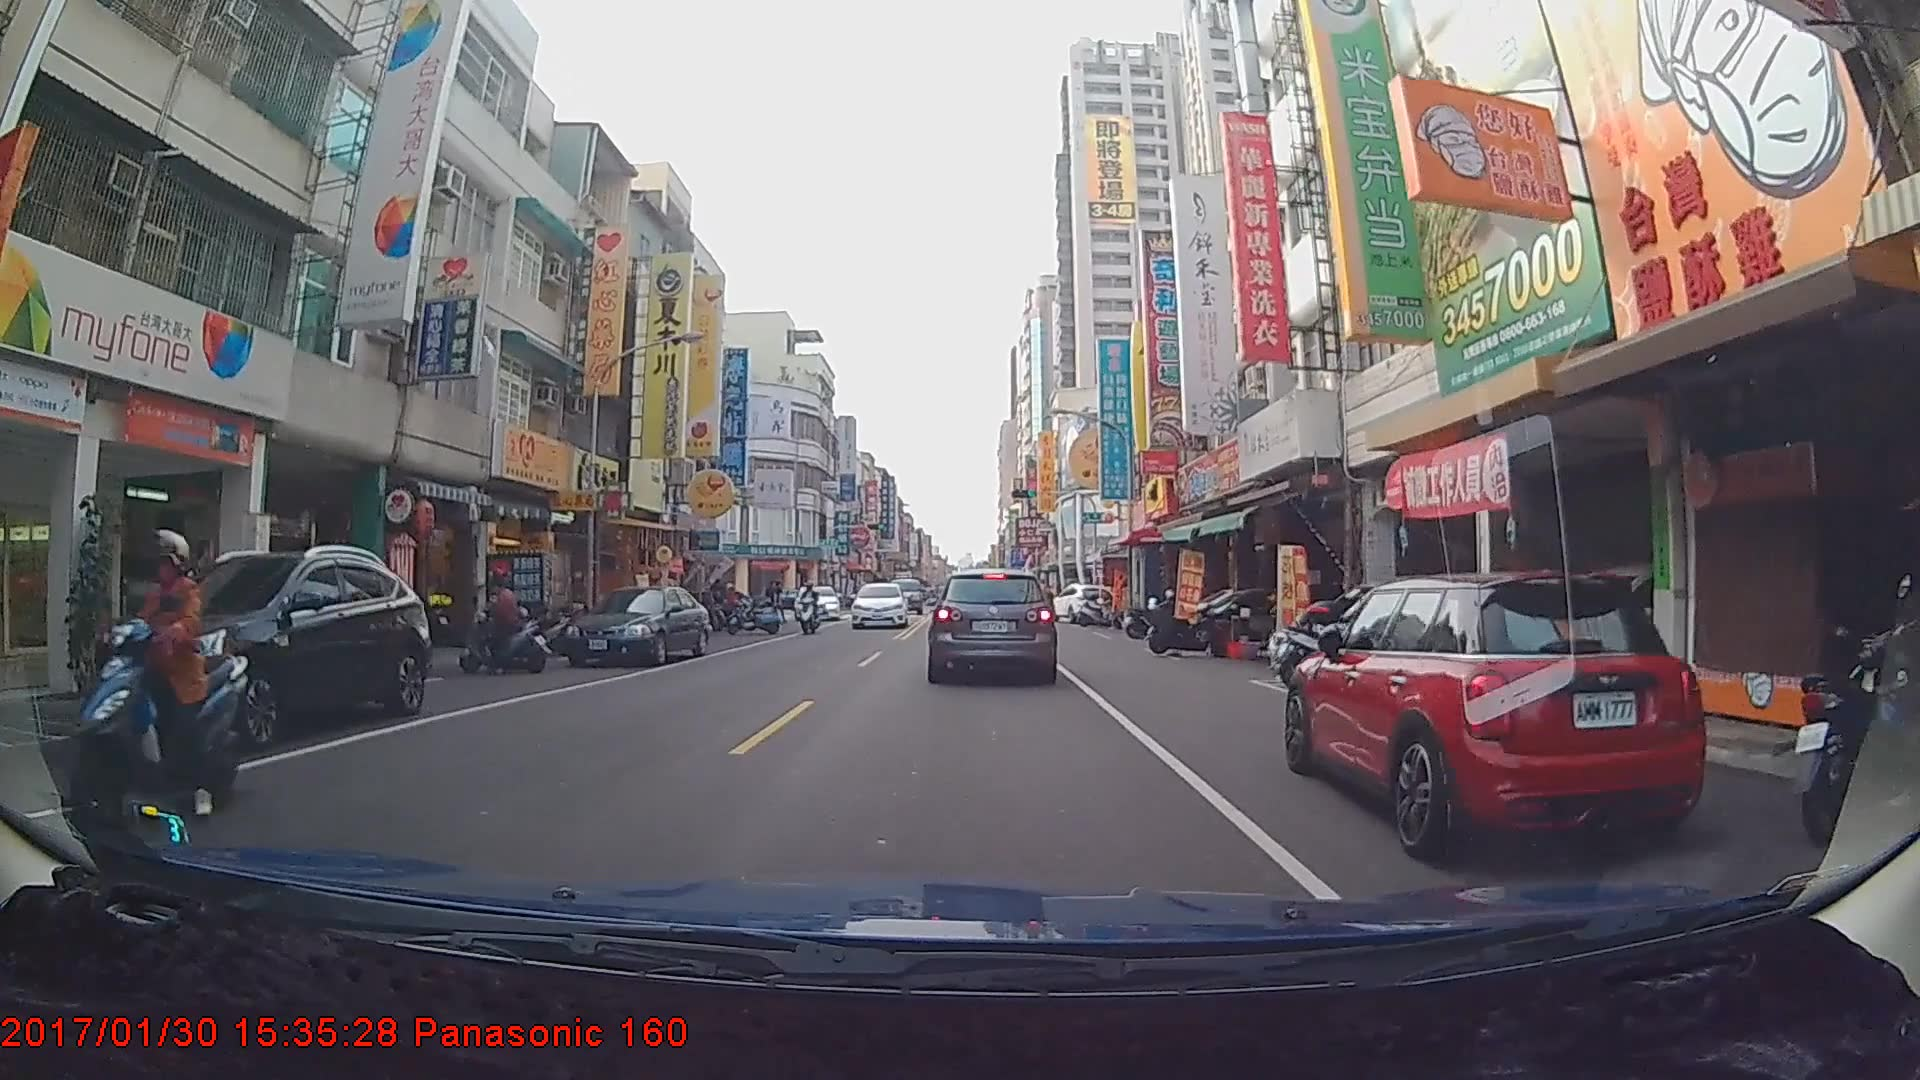rider: (96, 527, 251, 829), (455, 569, 563, 680), (794, 584, 822, 637)
vehicle: (1286, 566, 1692, 853), (82, 547, 430, 756), (928, 566, 1055, 681), (559, 588, 712, 667), (1049, 581, 1114, 625), (848, 582, 907, 628), (792, 582, 839, 620)
